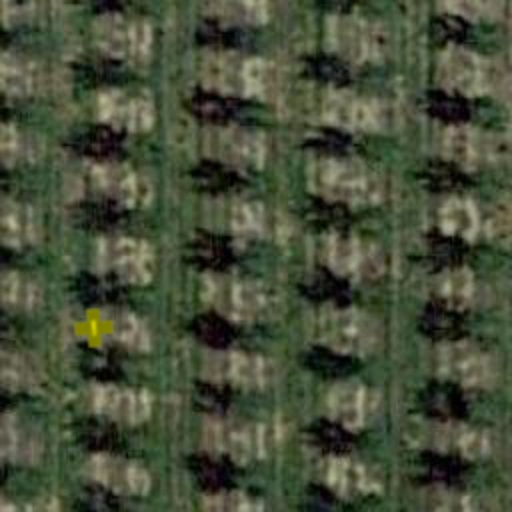cross: (72, 306, 116, 350)
